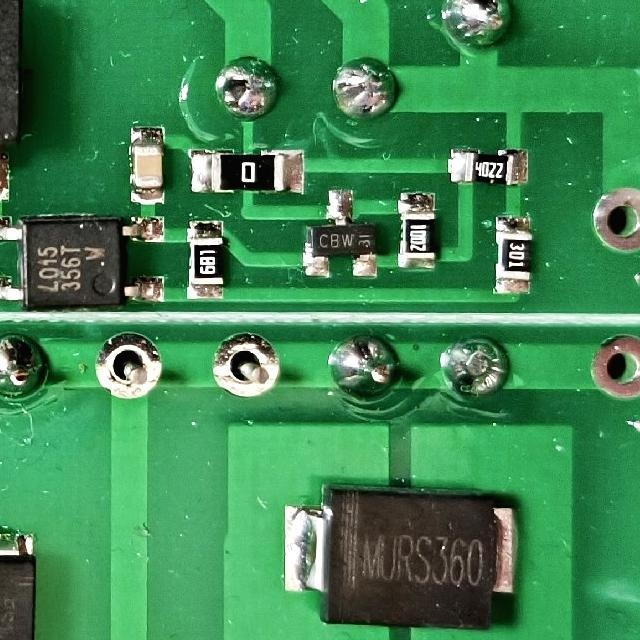chip-capacitor: (125, 123, 167, 208)
chip-resistor: (186, 146, 306, 198), (393, 185, 437, 273), (183, 215, 226, 302), (491, 211, 533, 297), (446, 143, 530, 186)
diode: (277, 478, 523, 634)
ic: (0, 211, 169, 309)
transistor: (296, 185, 380, 283)
